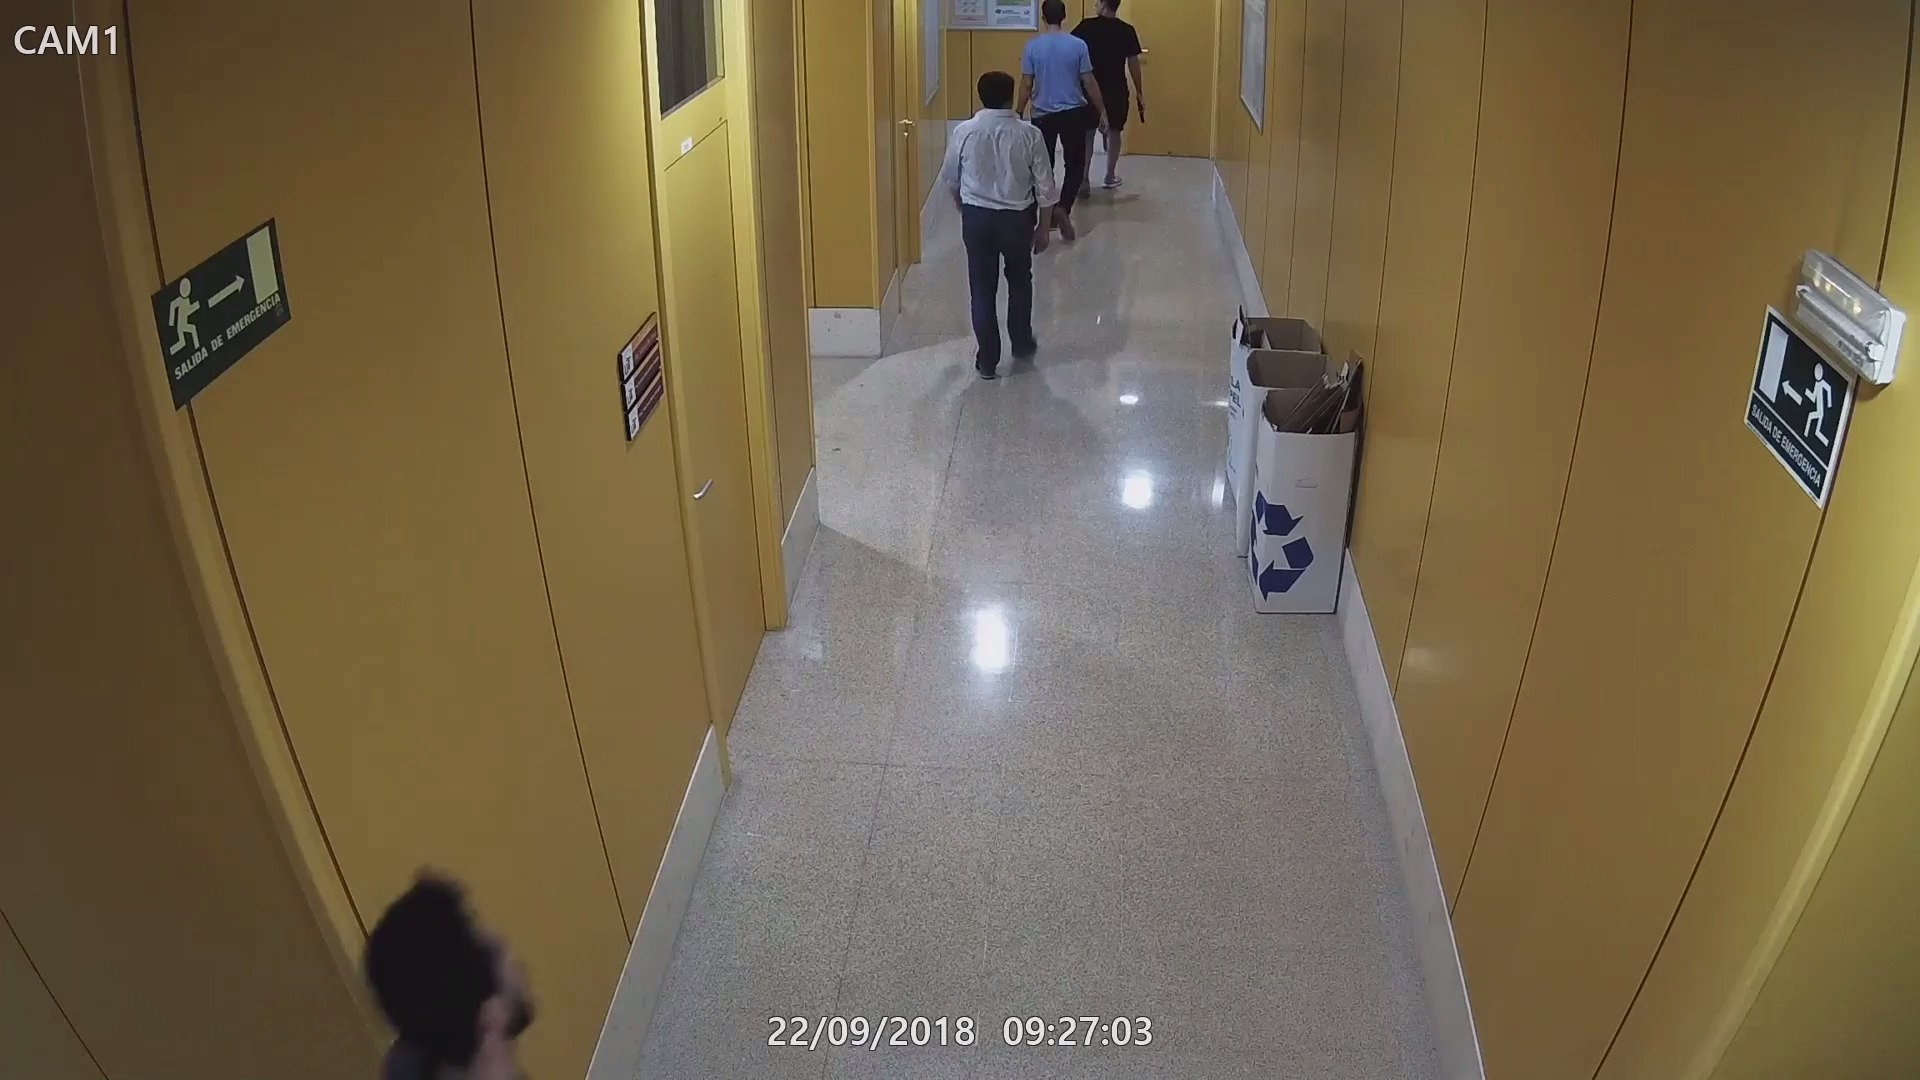Handgun: (1091, 112, 1117, 152), (1127, 94, 1155, 123)
